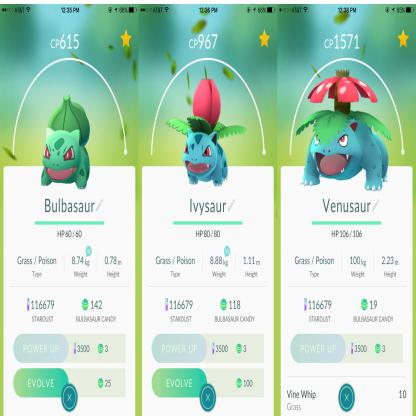Venusaur: (283, 55, 403, 205)
